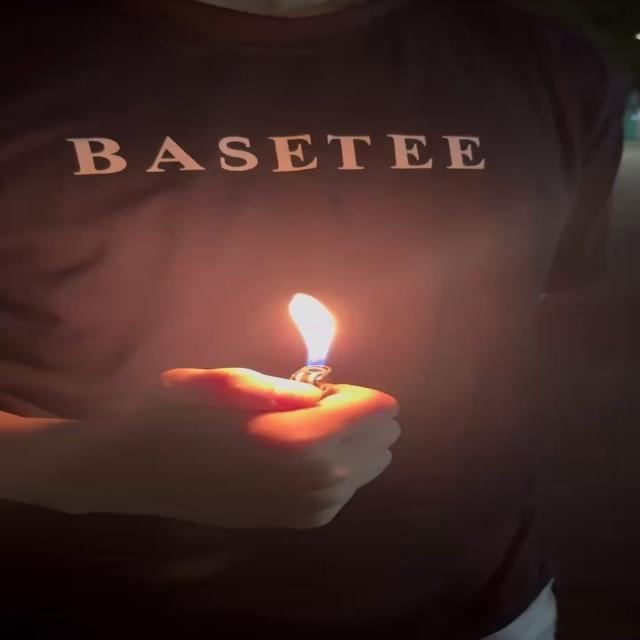Fire: (286, 293, 342, 374)
